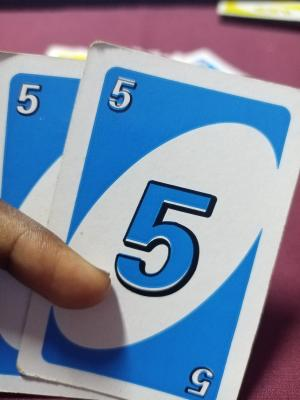blue: (96, 70, 228, 399), (2, 68, 67, 384)
num_5: (103, 70, 143, 118), (10, 76, 48, 126)
